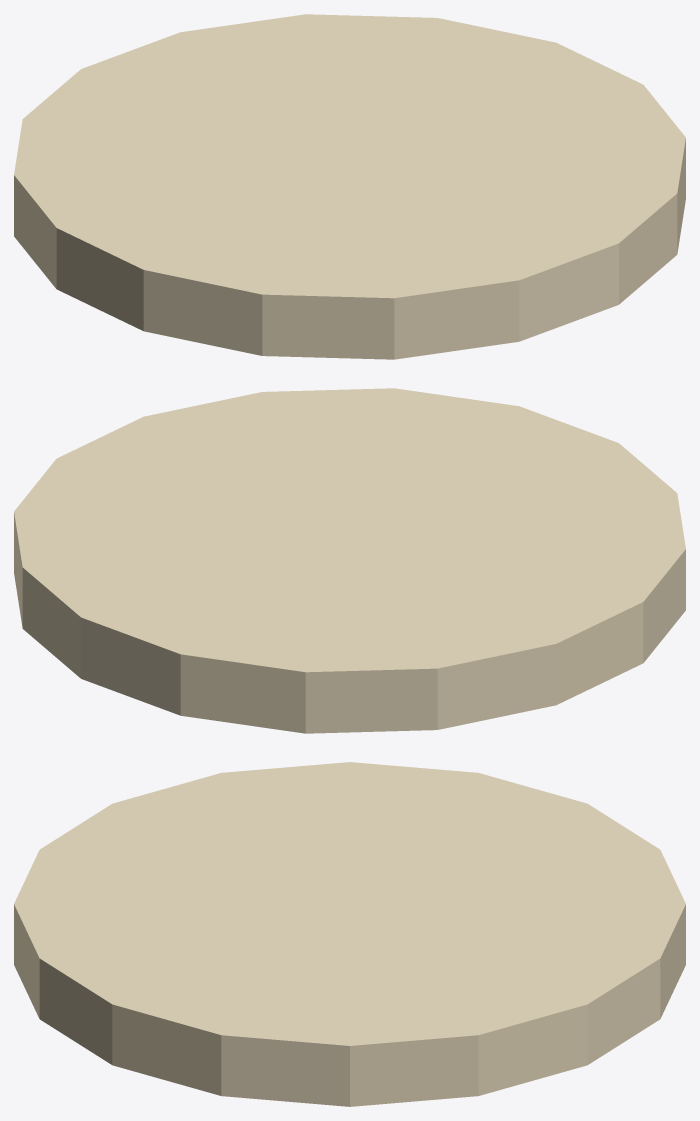
The model's file is shell_token.dae.
3 views of the same model, one above another, from view 1: azimuth 30°, elevation 25°; view 2: azimuth 150°, elevation 25°; view 3: azimuth 270°, elevation 25° (orthographic).
Visible parts, largest first — view 1: Cylinder; view 2: Cylinder; view 3: Cylinder.
Boxes of the visible parts, <box> form: Cylinder: <box>14,14,685,359</box>; Cylinder: <box>14,388,685,733</box>; Cylinder: <box>14,762,685,1106</box>.
Bounding box in the file's own units: 20 × 20 × 2.
